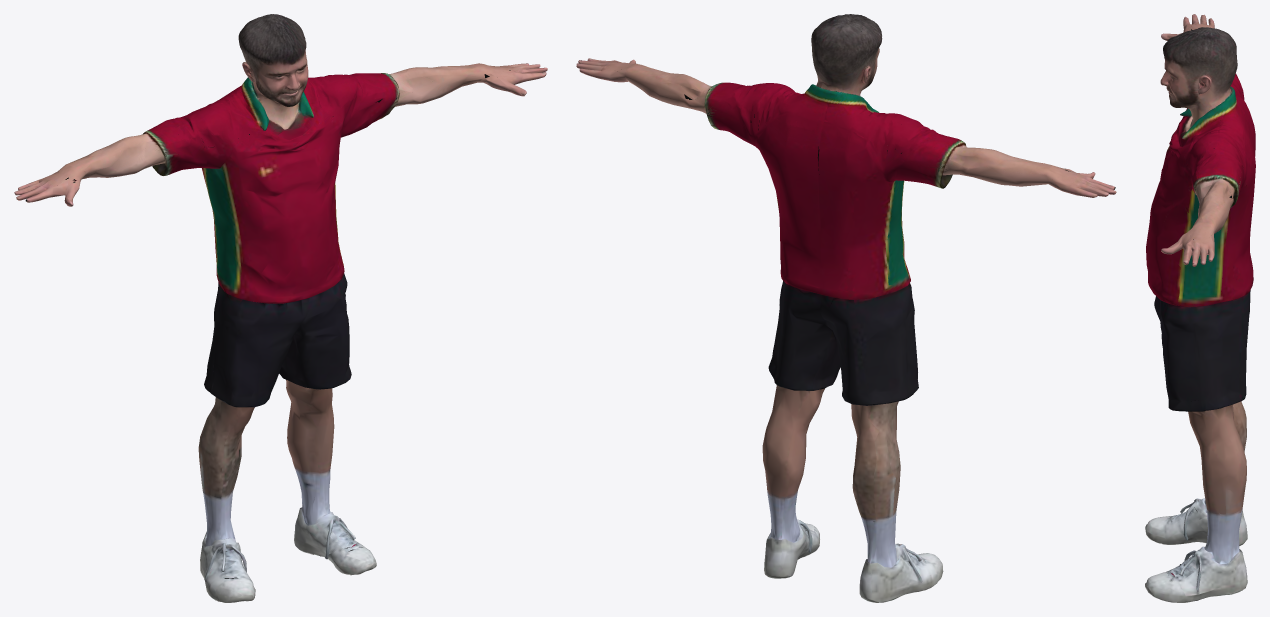
The model's file is alfie.glb.
3 views of the same model, side by side, from view 1: azimuth 30°, elevation 25°; view 2: azimuth 150°, elevation 25°; view 3: azimuth 270°, elevation 25° (orthographic). The views are drawn at different scales.
Parts seen in each view (by area): view 1: tommy; view 2: tommy; view 3: tommy.
Part boxes in pixels (bbox=[...]): tommy: bbox=[14, 14, 547, 602]; tommy: bbox=[576, 14, 1116, 602]; tommy: bbox=[1145, 14, 1255, 602].
Size of the model in its own units: 1.8 by 1.8 by 0.3371.
Materials: 1 (1 with a texture image).
